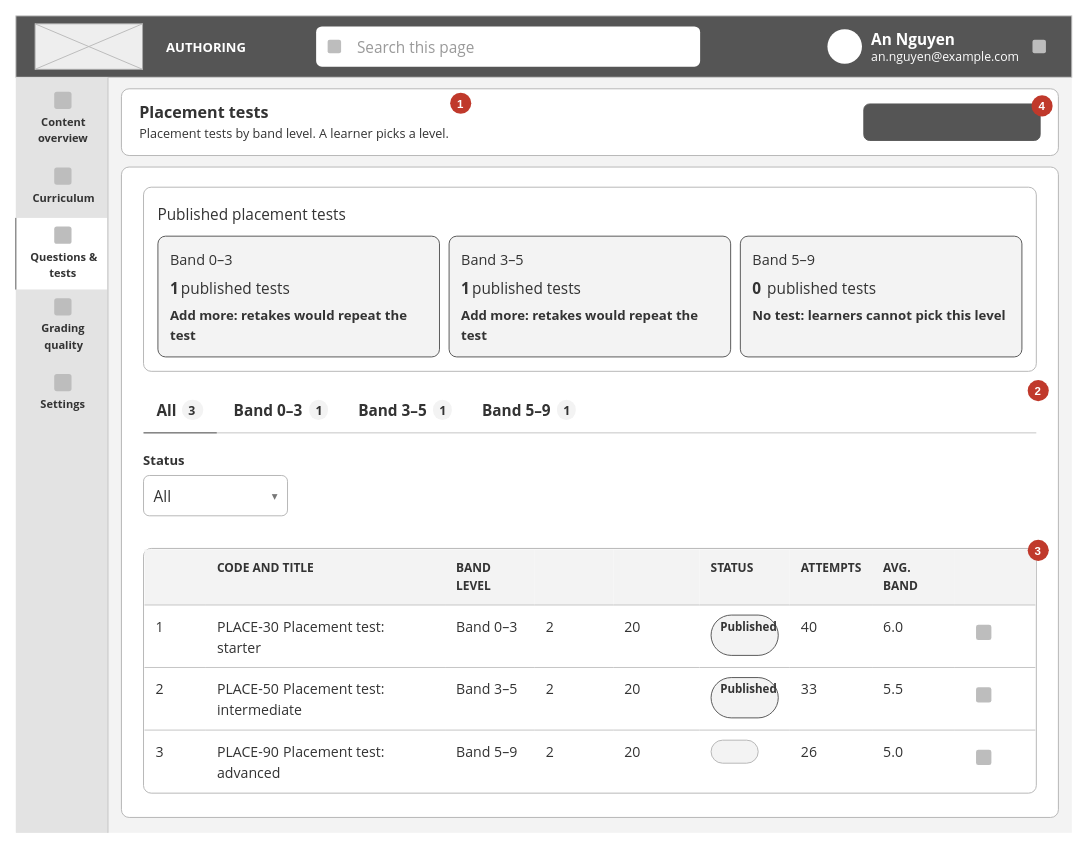
The diagram is 1088 pixels wide and 849 high, and some of its shapes have lost their labels. Here are the shapes that lost their labels. From the top down, the box of each, then its label:
(827, 29, 862, 63): AN
(863, 103, 1040, 140): New placement test
(144, 549, 205, 605): NO.
(534, 549, 613, 605): SECTIONS
(613, 549, 699, 605): QUESTIONS
(954, 549, 1035, 605): ACTIONS
(710, 739, 758, 763): Draft
